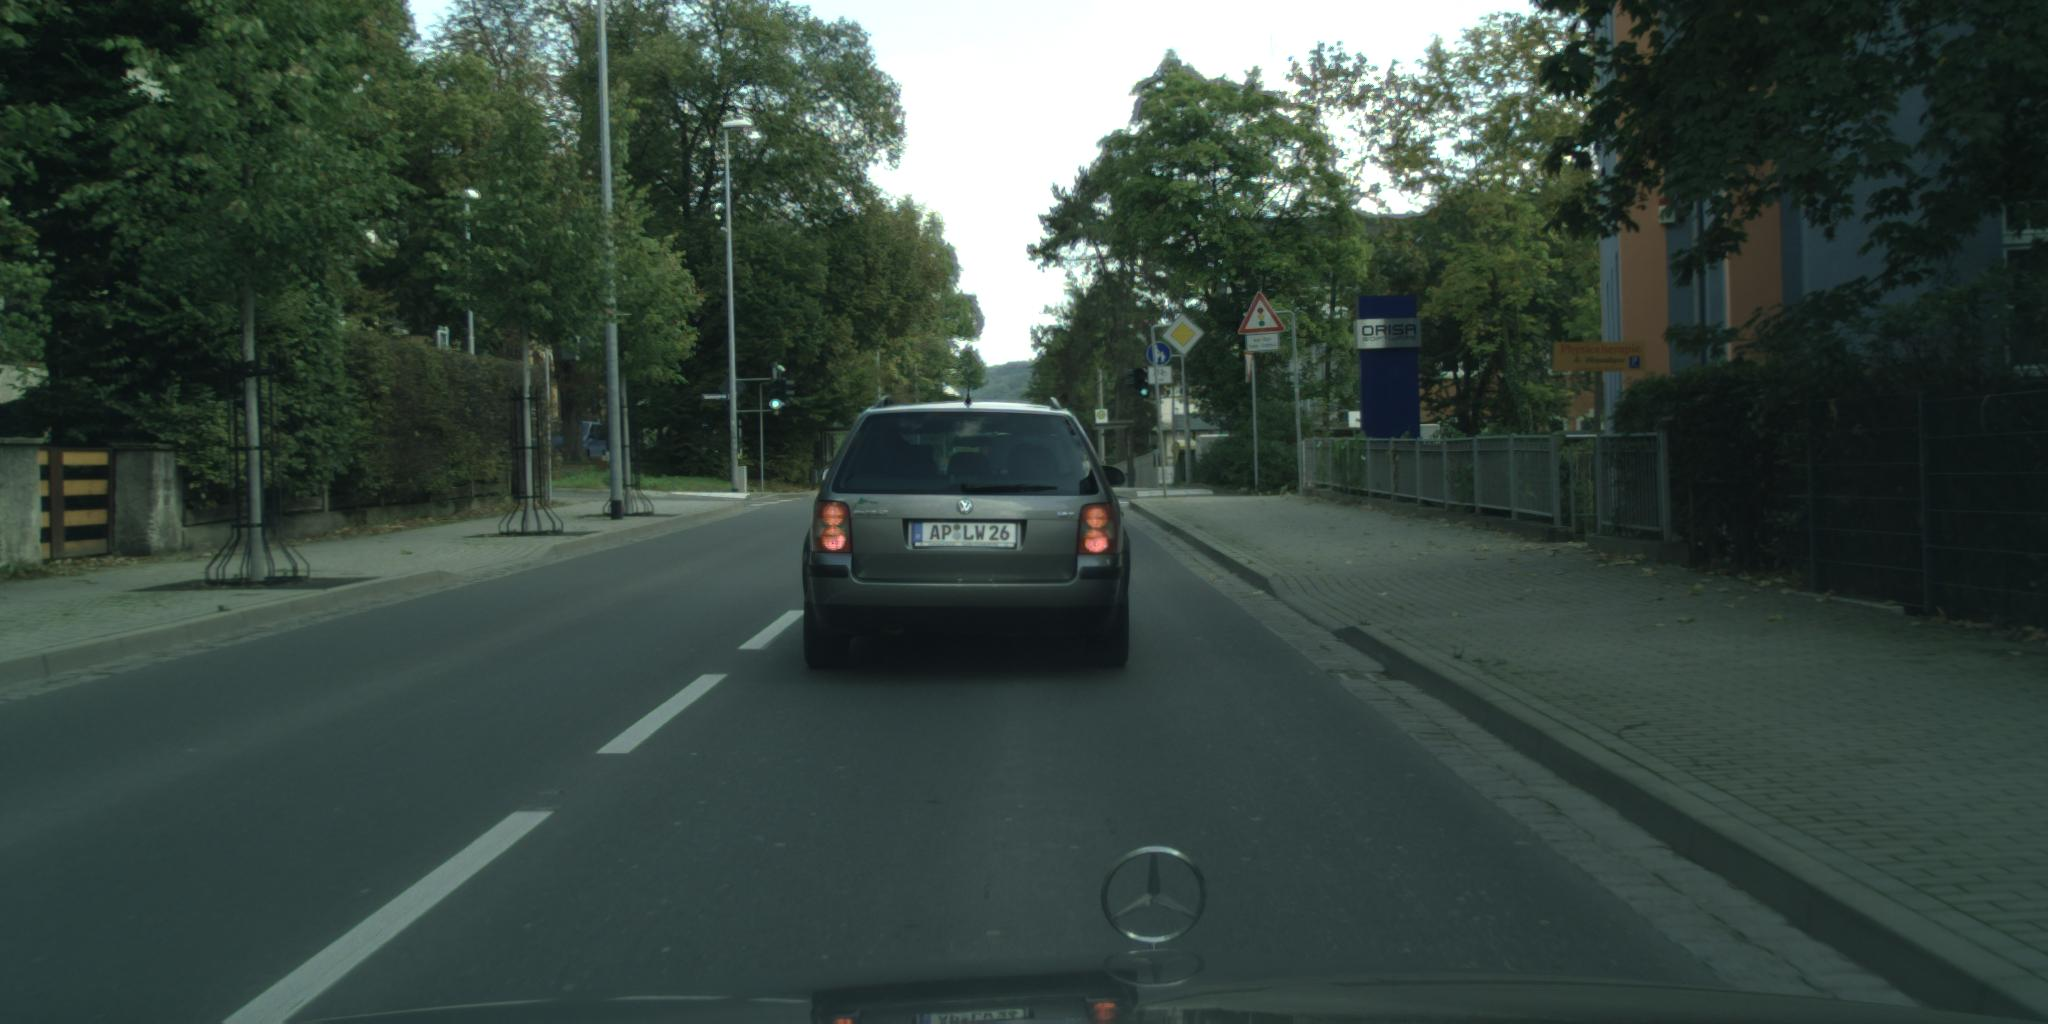car: (803, 393, 1132, 673)
